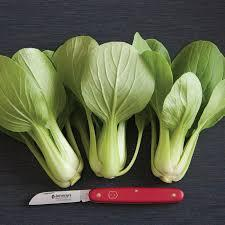Healthy-Pechay: (123, 31, 225, 183), (47, 31, 143, 185), (0, 43, 86, 192)
